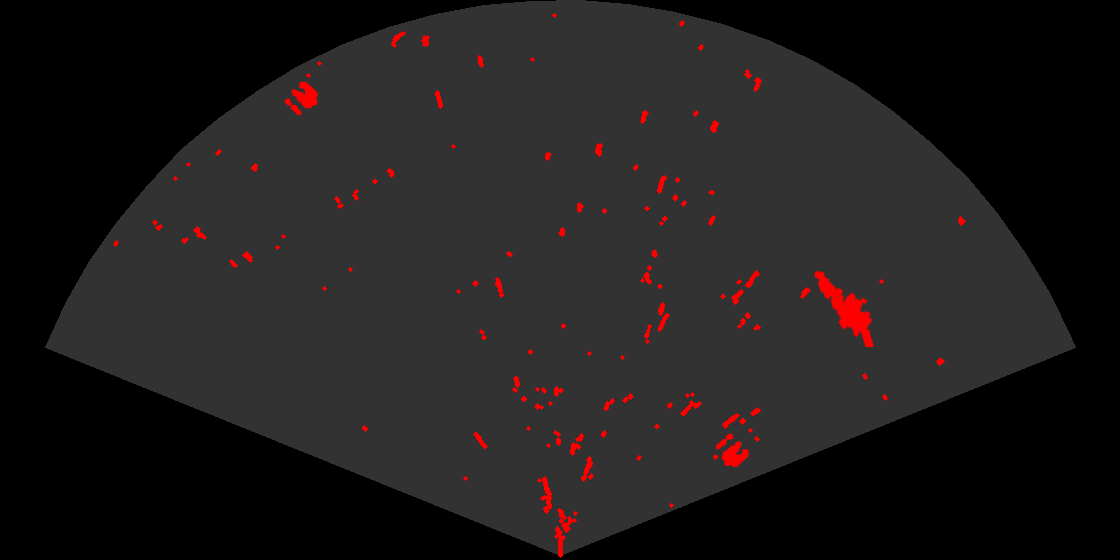ball: (283, 80, 320, 117), (714, 432, 751, 469)
frogman: (812, 269, 876, 347)
